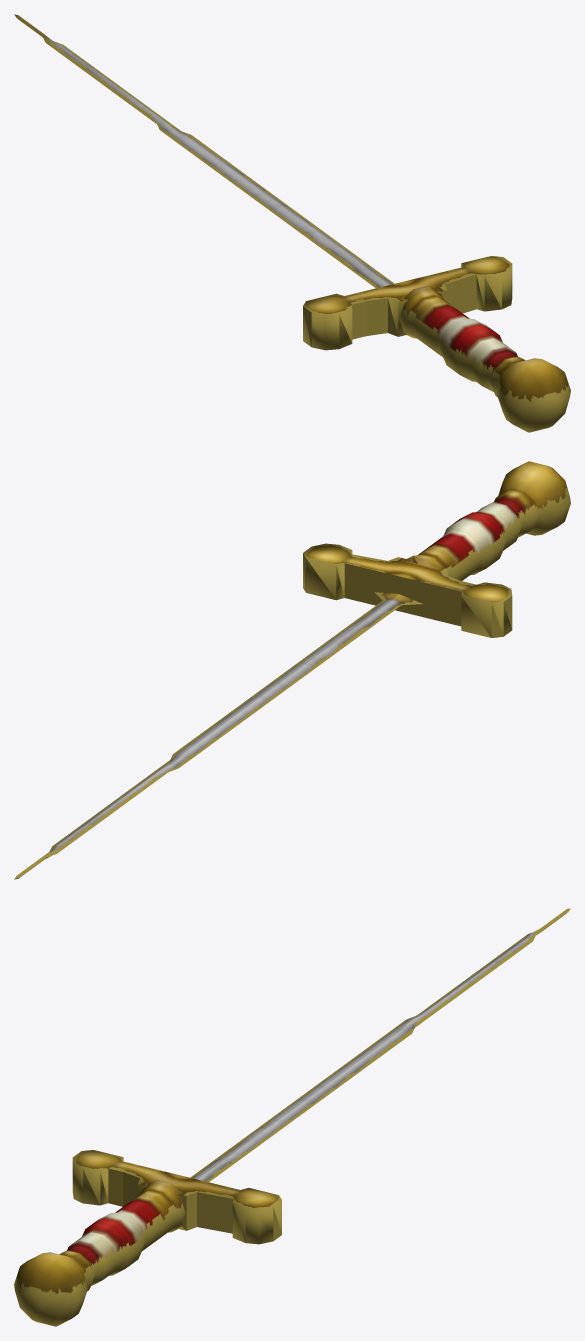
Rendered from item_mm9_10026.glb.
The picture shows the model from 3 angles, top to bottom: view 1: azimuth 30°, elevation 25°; view 2: azimuth 150°, elevation 25°; view 3: azimuth 330°, elevation 25°; orthographic projection.
Visible parts, largest first — view 1: d10026; view 2: d10026; view 3: d10026.
Part boxes in pixels (x1,y1,x2,y2): d10026: (14,14,570,432); d10026: (14,461,570,879); d10026: (14,908,570,1326).
Size of the model in its own units: 23.85 by 7.28 by 111.
1 material, 1 textured.
